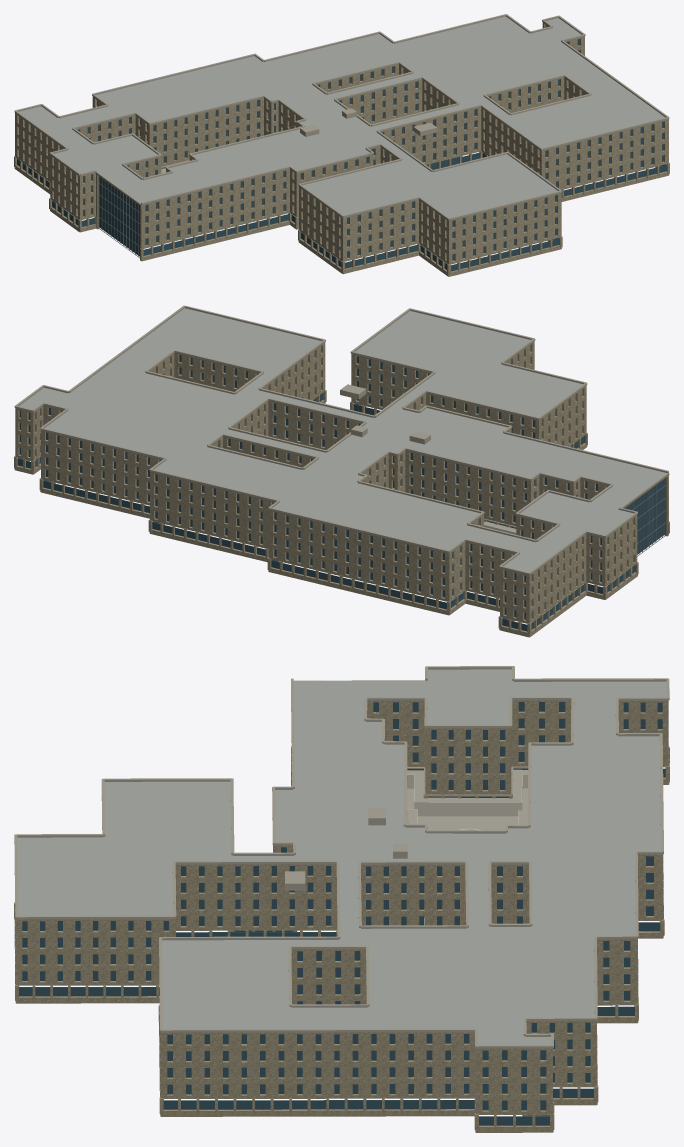
Rendered from zonghe.far.glb.
3 renders of one model, top to bottom at view 1: azimuth 30°, elevation 25°; view 2: azimuth 150°, elevation 25°; view 3: azimuth 270°, elevation 25°, orthographic. The views are drawn at different scales.
Visible parts, largest first — view 1: roof, wall, glass, trim, metal; view 2: roof, wall, trim, glass, metal; view 3: roof, wall, glass, trim, paving, stone.
Part boxes in pixels (box(x1,y1,x2,y2)): roof: box(19, 16, 665, 217); wall: box(14, 22, 669, 276); glass: box(17, 39, 666, 271); trim: box(14, 14, 669, 220); metal: box(98, 176, 139, 257); roof: box(19, 308, 667, 572); wall: box(14, 341, 669, 637); trim: box(14, 305, 668, 574); glass: box(17, 355, 665, 631); metal: box(626, 478, 665, 556); roof: box(17, 669, 666, 1045); wall: box(14, 680, 669, 1132); glass: box(19, 702, 665, 1125); trim: box(14, 666, 669, 1048); paving: box(407, 769, 528, 830); stone: box(407, 774, 527, 830).
Bounding box in the file's own units: 154 × 17.9 × 112.
9 materials, 1 textured.
